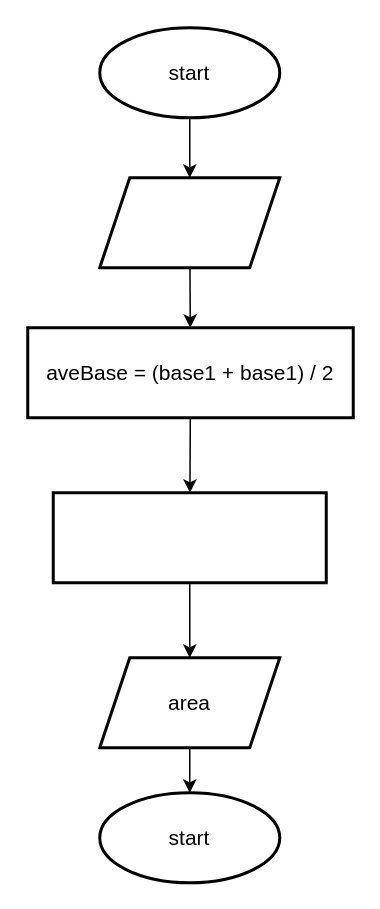
The diagram is 380 pixels wide and 909 high, and some of its shapes have lost their labels. The shapes that lost their labels are listed below. From the top down, each one's box as (x1, y1, x2, y2) in pixels, then its label:
(98, 176, 280, 268): base, height
(51, 490, 327, 584): area = aveBase * height
